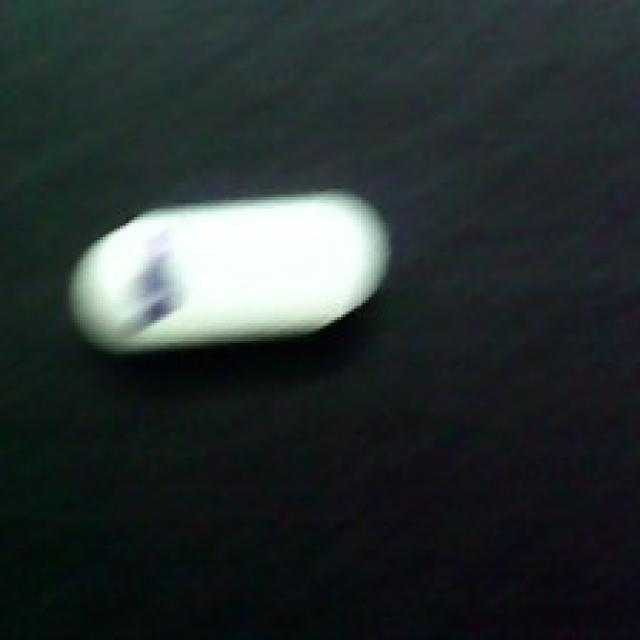defected: (66, 183, 397, 360)
